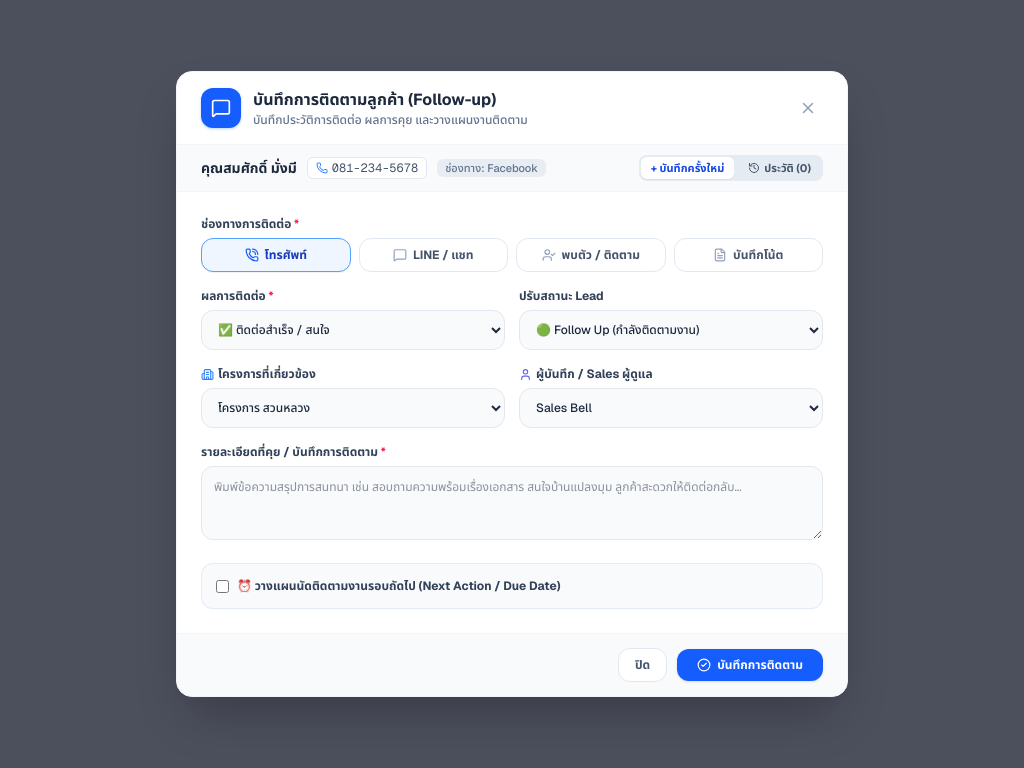
Test: CentralLeadFollowUpModal › validates required notes before submission
Click the button "บันทึกการติดตาม" at (750, 665), box [677,649,823,681]
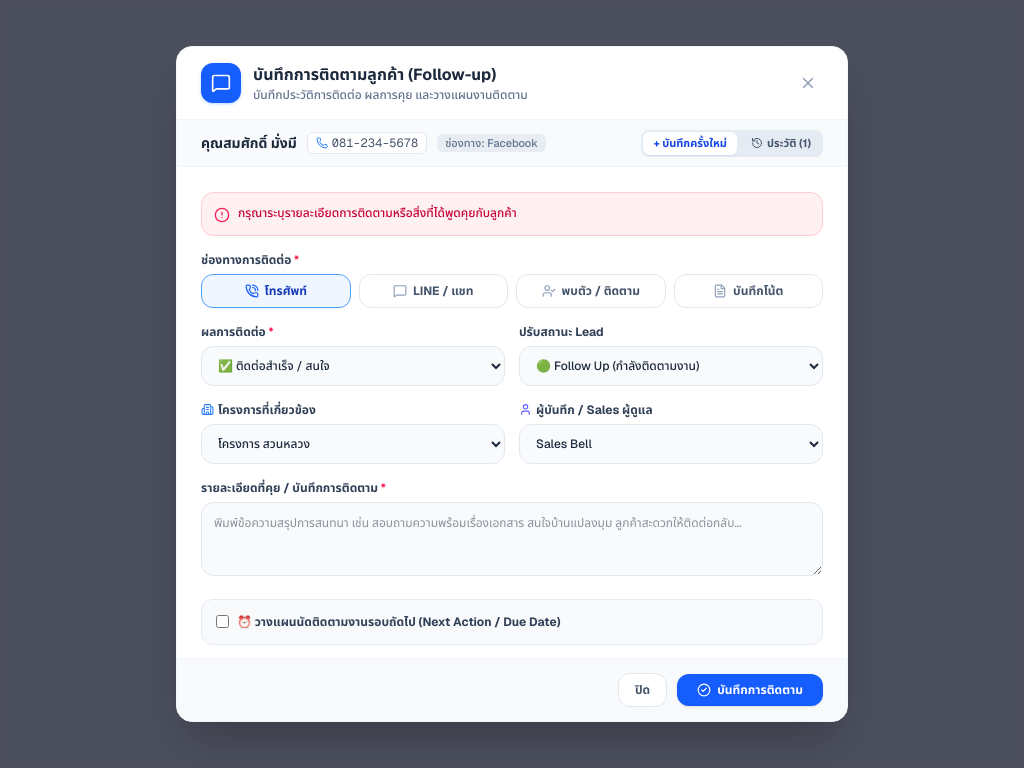
Now the text "กรุณาระบุรายละเอียดการติดตามหรือสิ่งที่ได้พูดคุยกับลูกค้า" is shown, box [238,205,517,221]
